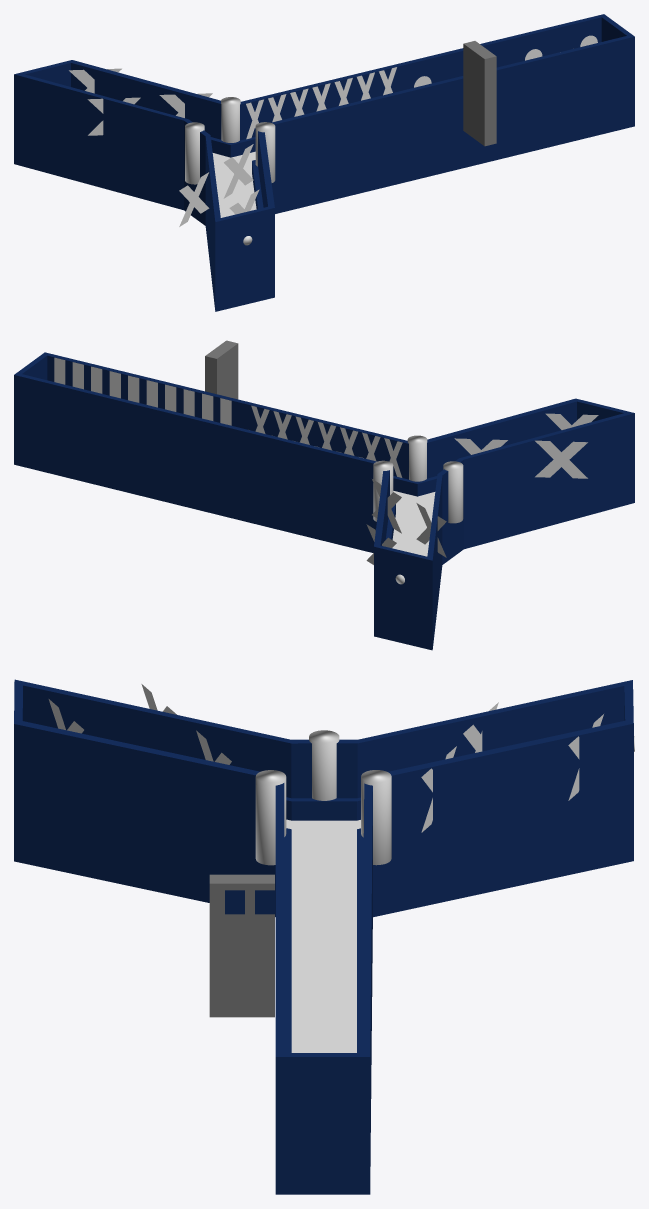
The picture shows the model from 3 angles, top to bottom: view 1: azimuth 30°, elevation 25°; view 2: azimuth 150°, elevation 25°; view 3: azimuth 270°, elevation 25°; orthographic projection. The views are drawn at different scales.
Visible parts, largest first — view 1: Cube.141, Cube.110, Cube.143, Cube.142, Cylinder.034, Cylinder.032, Cylinder.033, Cube.116, Cube.114; view 2: Cube.141, Cube.143, Cube.110, Cube.114, Cylinder.034, Cube.142, Cylinder.033, Cylinder.032, Cube.113; view 3: Cube.141, Cube.143, Cube.110, Cube.142, Cylinder.033, Cylinder.032, Cylinder.034.
Boxes of the visible parts, left/top/right/bottom form: Cube.141: left=14, top=14, right=634, bottom=311; Cube.110: left=463, top=41, right=496, bottom=146; Cube.143: left=212, top=151, right=256, bottom=217; Cube.142: left=211, top=137, right=263, bottom=217; Cylinder.034: left=185, top=122, right=204, bottom=184; Cylinder.032: left=221, top=97, right=240, bottom=142; Cylinder.033: left=255, top=122, right=275, bottom=182; Cube.116: left=223, top=144, right=253, bottom=198; Cube.114: left=179, top=172, right=209, bottom=226; Cube.141: left=14, top=352, right=634, bottom=650; Cube.143: left=392, top=491, right=435, bottom=556; Cube.110: left=205, top=340, right=238, bottom=399; Cube.114: left=535, top=440, right=587, bottom=478; Cylinder.034: left=443, top=461, right=463, bottom=523; Cube.142: left=385, top=476, right=437, bottom=553; Cylinder.033: left=407, top=435, right=427, bottom=481; Cylinder.032: left=373, top=460, right=393, bottom=521; Cube.113: left=416, top=503, right=446, bottom=557; Cube.141: left=14, top=679, right=633, bottom=1194; Cube.143: left=286, top=819, right=360, bottom=1052; Cube.110: left=209, top=874, right=274, bottom=1017; Cube.142: left=284, top=797, right=363, bottom=1052; Cylinder.033: left=255, top=770, right=286, bottom=865; Cylinder.032: left=361, top=770, right=391, bottom=865; Cylinder.034: left=309, top=730, right=339, bottom=800.
Size of the model in its own units: 2732 by 646 by 1900.
